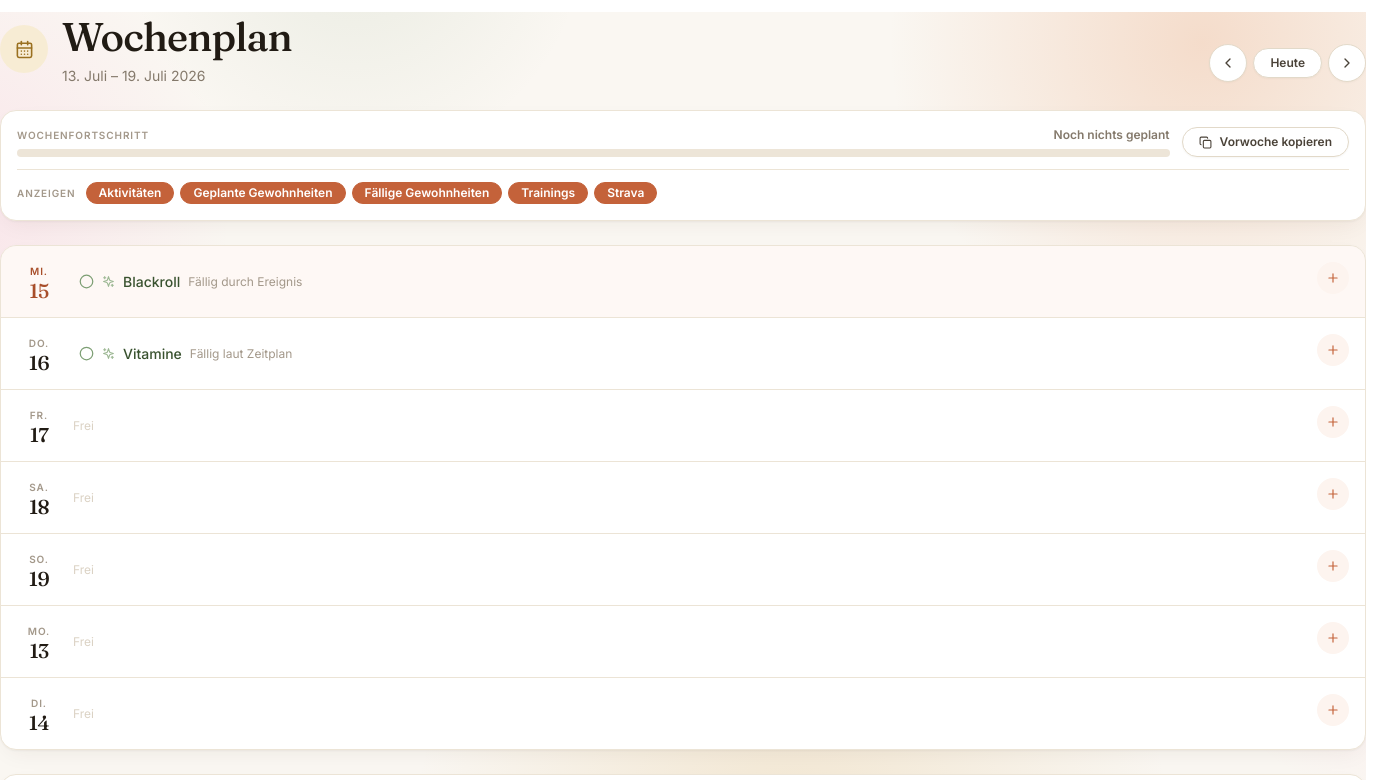
Test: Planner – due habits › hides due habits when their filter is off and persists the choice
Expected: the text "Blackroll" is shown, [123, 272, 180, 292]
Click the button "Fällige Gewohnheiten" at (427, 193), box [352, 182, 502, 204]
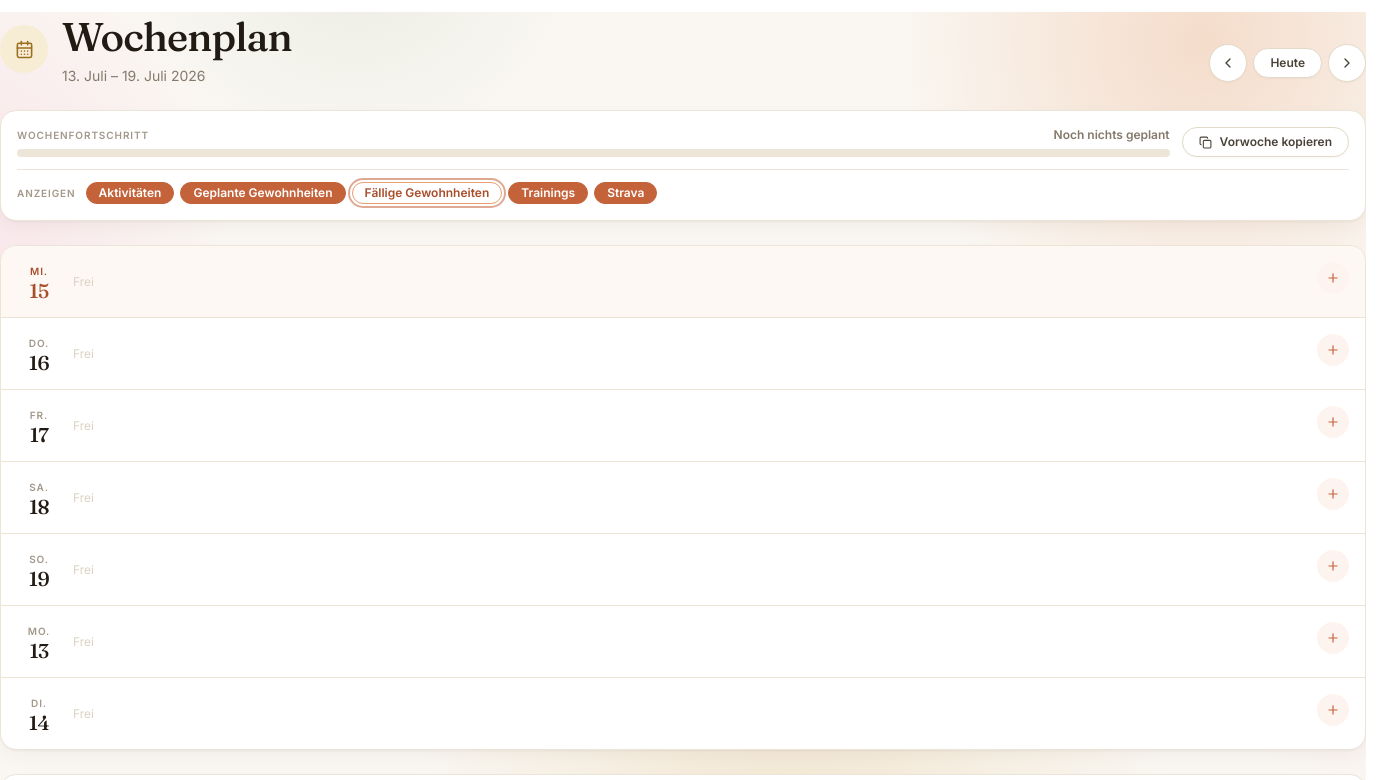
Result: the button "Blackroll" is gone
